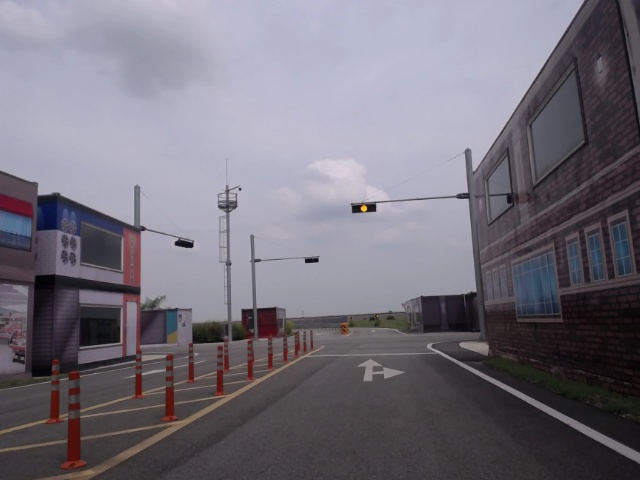orange_3: (352, 203, 376, 213)
